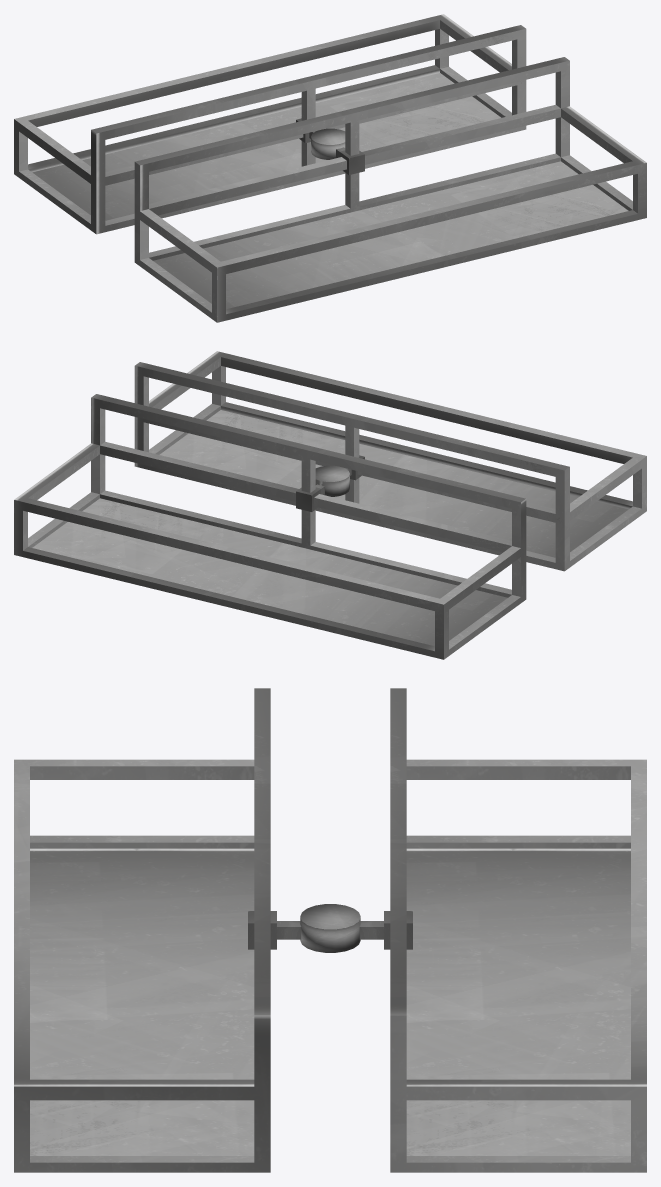
The model's file is Sphere_Elevator.fbx.
3 views of the same model, one above another, from view 1: azimuth 30°, elevation 25°; view 2: azimuth 150°, elevation 25°; view 3: azimuth 270°, elevation 25° (orthographic). The views are drawn at different scales.
Parts seen in each view (by area): view 1: Elevador1; view 2: Elevador1; view 3: Elevador1.
Part boxes in pixels (bbox=[...]): Elevador1: bbox=[14, 14, 646, 322]; Elevador1: bbox=[14, 351, 646, 659]; Elevador1: bbox=[14, 688, 646, 1172].
Bounding box in the file's own units: 810 × 182 × 662.
